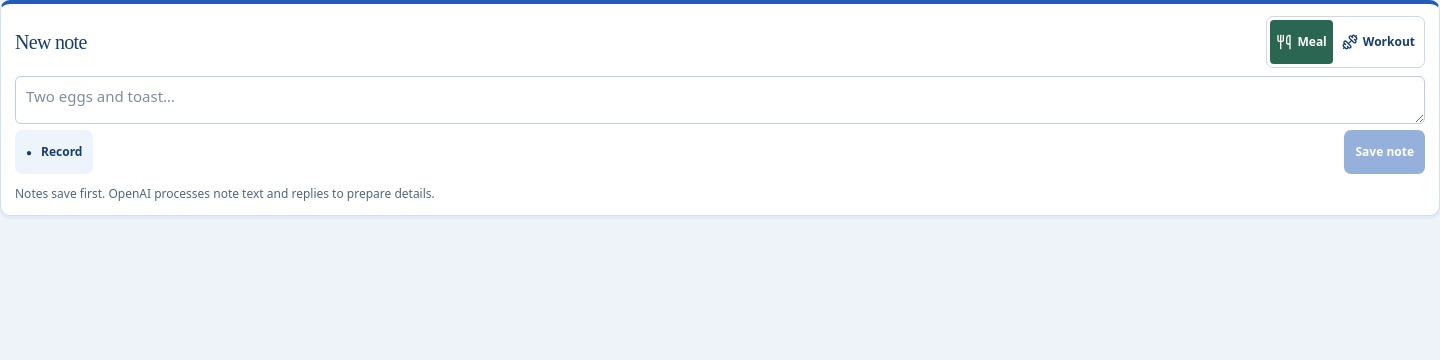
recording discloses processing and leaves an editable transcript for review before save
This screenshot has width=1440, height=360.
Step 1. Type "Lunch" into the text box named "Your note" → {"x": 720, "y": 100}, box [15,76,1425,124]
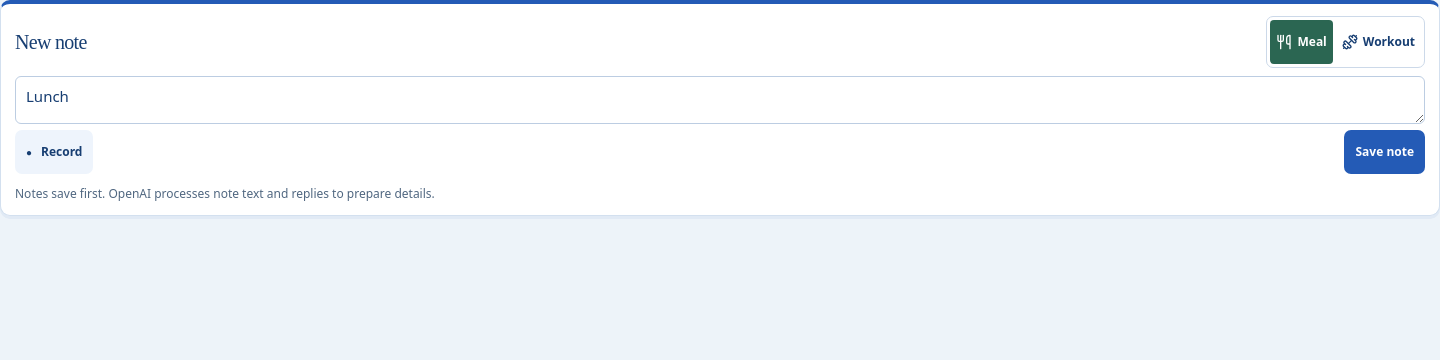
Step 2. Click the button "● Record" → {"x": 54, "y": 152}, box [15,130,94,174]
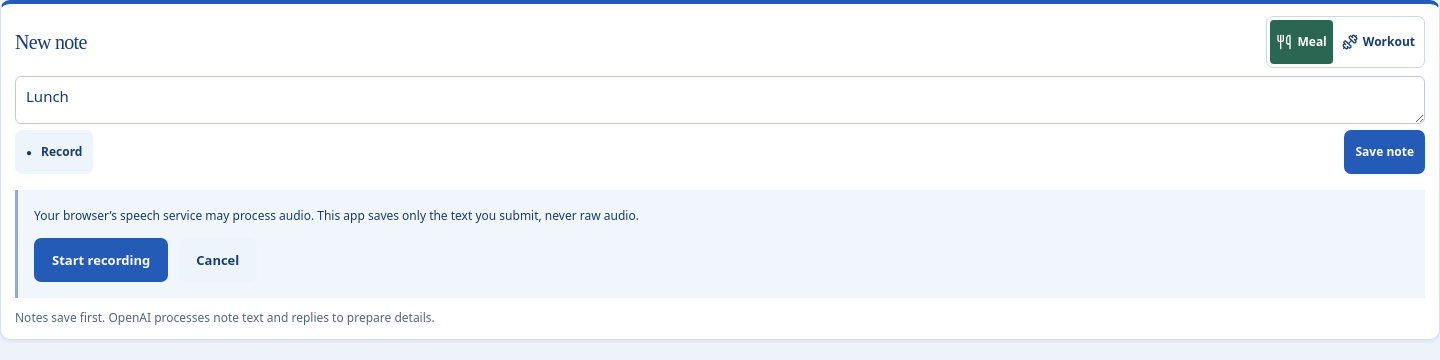
Check: the text "browser’s speech service may process audio" is shown, box [34,207,639,224]
Step 3. Click the button "Start recording" → {"x": 101, "y": 260}, box [34,238,168,282]
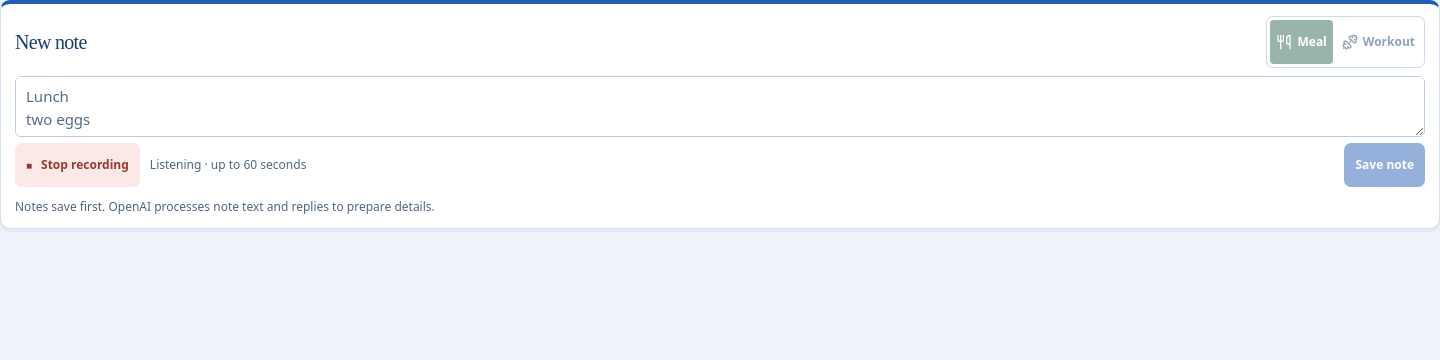
Check: the button "Save note" is disabled, box [1344,143,1425,187]
Step 4. Click the button "■ Stop recording" → {"x": 77, "y": 165}, box [15,143,140,187]
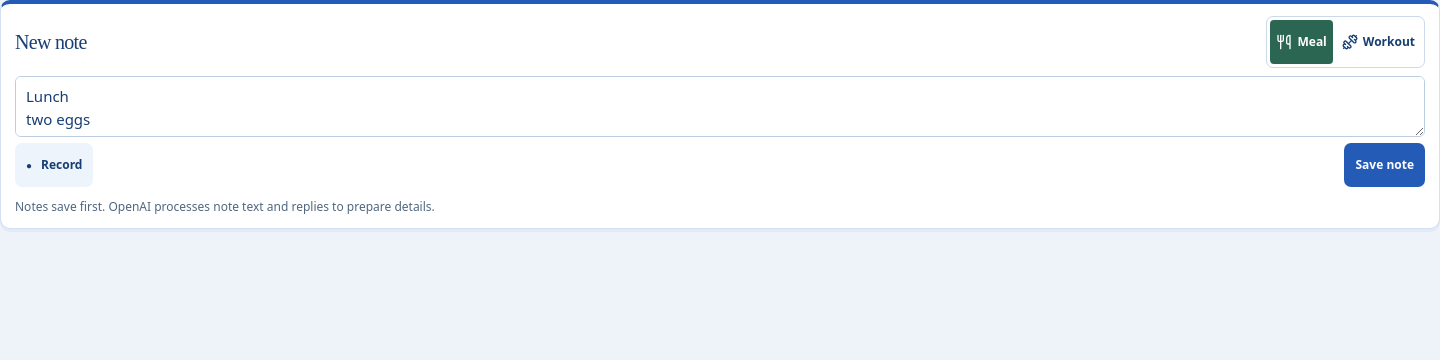
Check: the text box named "Your note" is enabled, box [15,76,1425,137]
